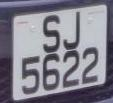2: (61, 49, 82, 92), (80, 46, 101, 84)
5: (18, 51, 42, 100)
6: (41, 53, 64, 96)
J: (61, 11, 85, 52)
S: (40, 12, 64, 56)
